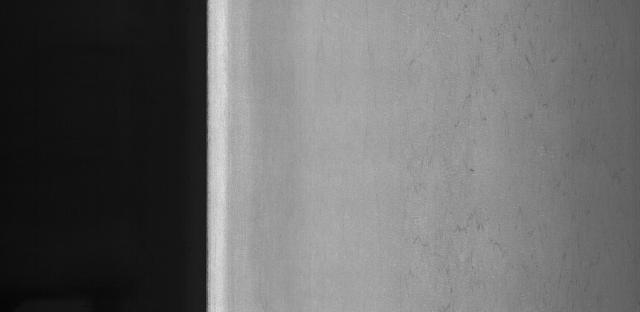silk_spot: (412, 0, 590, 306)
